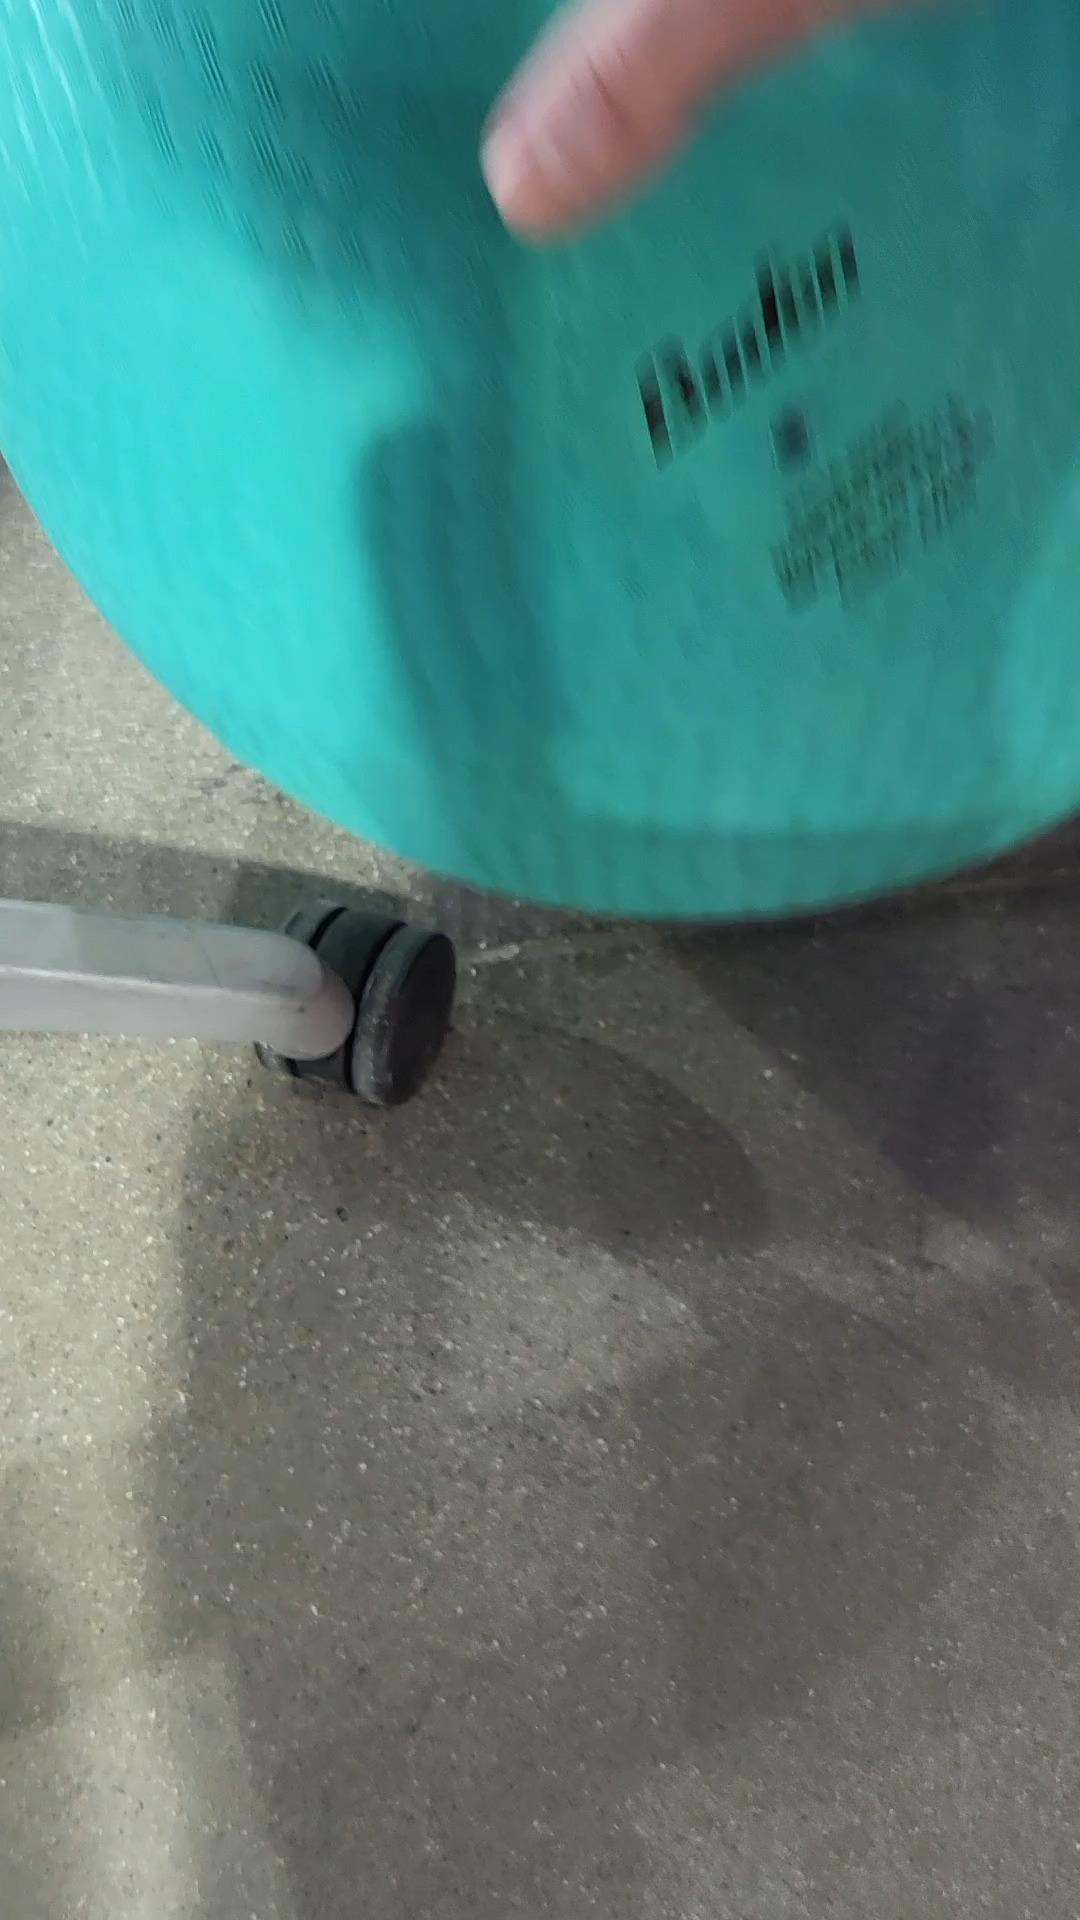algae: (0, 0, 1080, 926)
